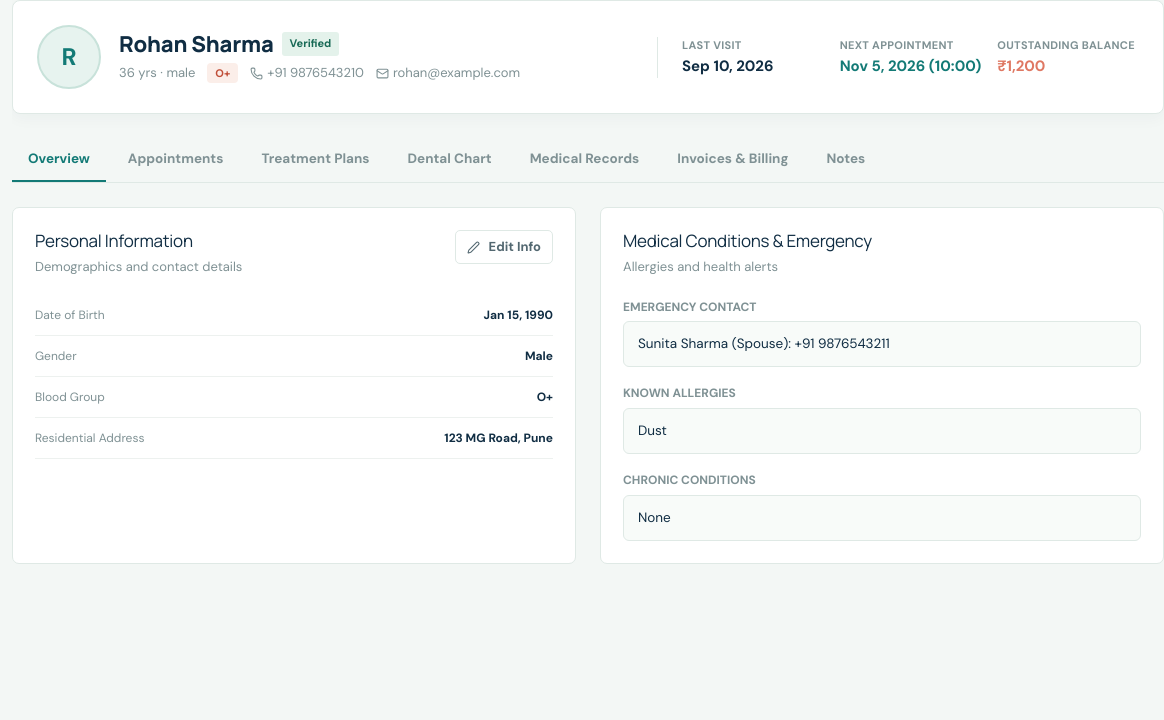
Test case: Patient360 Light Theme and Functionality › switches between all 7 tabs and renders appropriate section content
Check: the heading "Rohan Sharma" is shown, box [119, 30, 274, 57]
Check: the heading "Personal Information" is shown, box [35, 229, 193, 252]
# Appointments tab
Click the button "Appointments".
click(176, 160)  # box [112, 138, 239, 182]
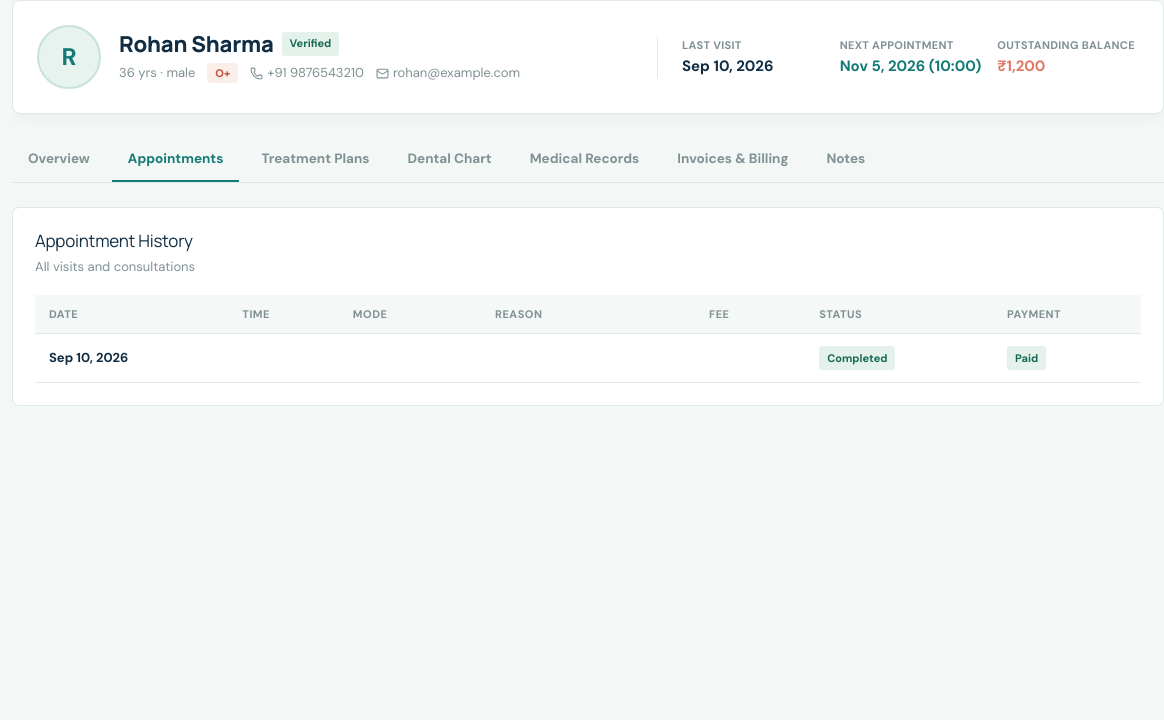
Check: the text "Routine scaling" is shown, box [481, 334, 695, 383]
# Treatment Plans tab
Click the button "Treatment Plans".
click(315, 160)  # box [245, 138, 386, 182]
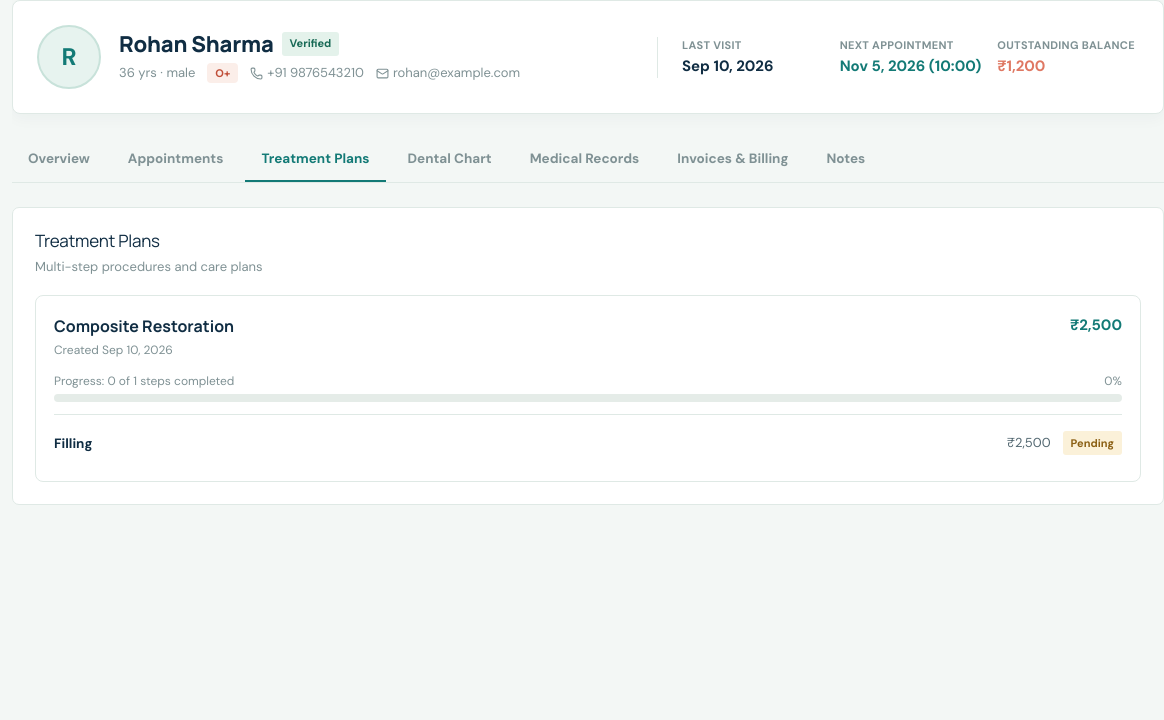
Check: the heading "Composite Restoration" is shown, box [54, 314, 234, 338]
# Dental Chart tab
Click the button "Dental Chart".
click(450, 160)  # box [392, 138, 508, 182]
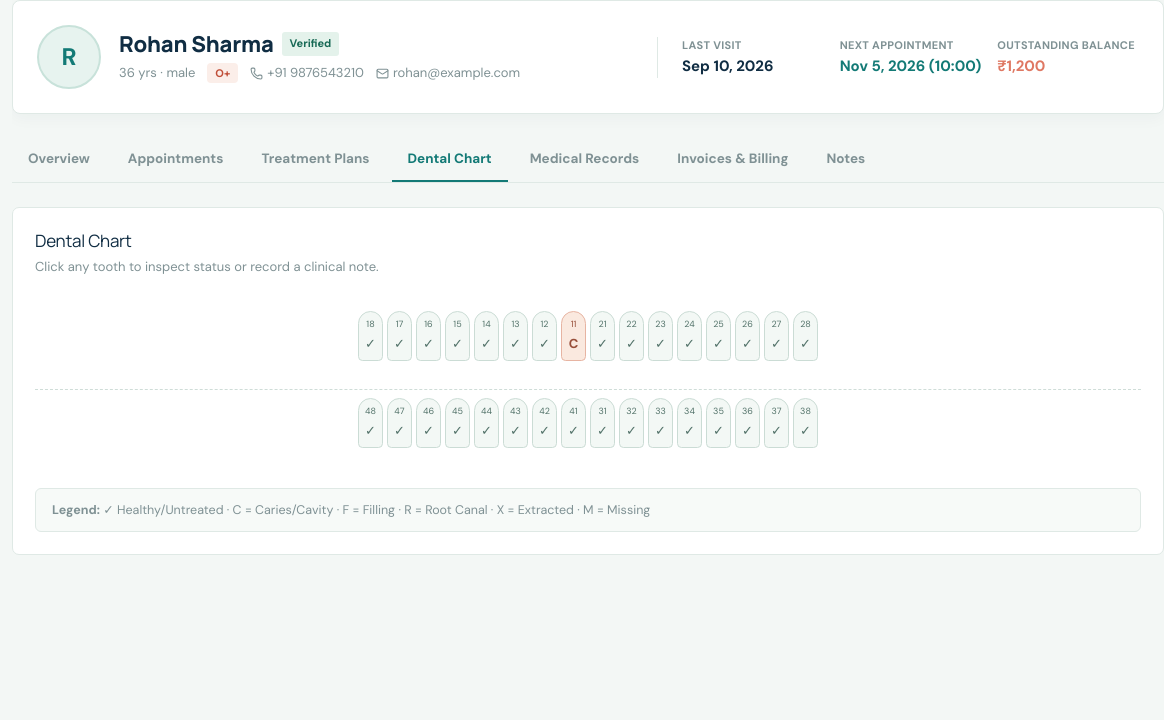
Check: the button titled "Tooth 11: caries" is shown, box [561, 311, 586, 361]
# Medical Records tab
Click the button "Medical Records".
click(584, 160)  # box [514, 138, 655, 182]
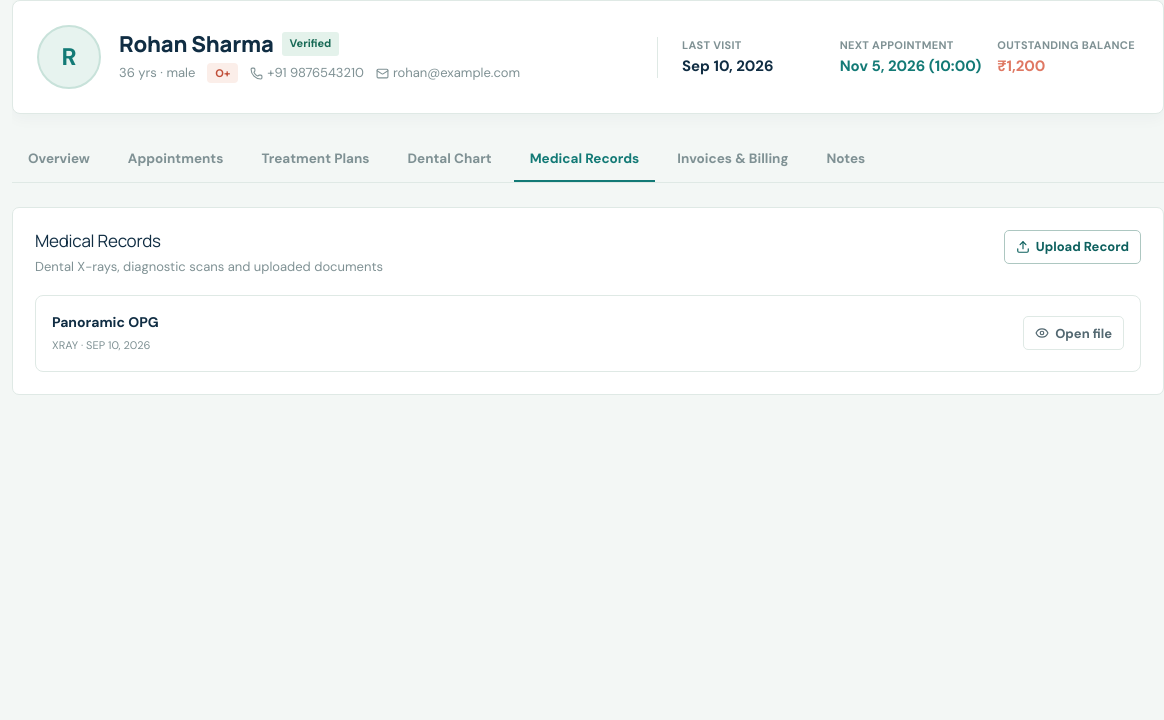
Check: the text "Panoramic OPG" is shown, box [52, 312, 159, 333]
# Invoices & Billing tab
Click the button "Invoices & Billing".
click(733, 160)  # box [661, 138, 804, 182]
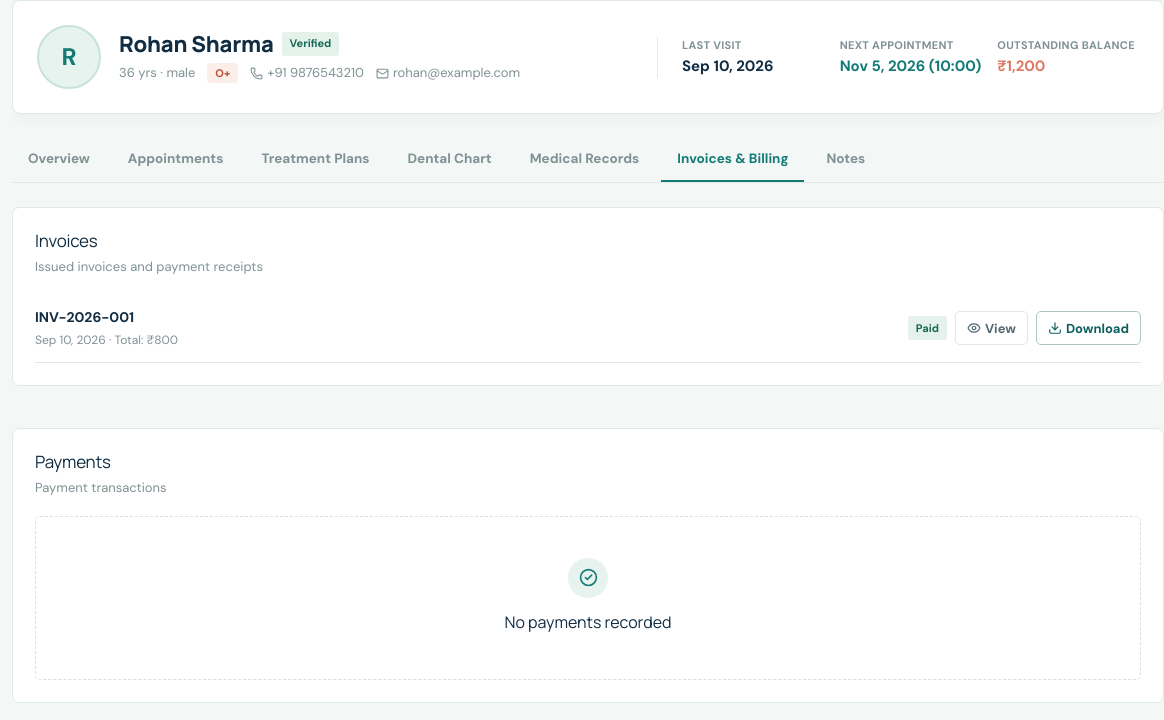
Check: the text "INV-2026-001" is shown, box [35, 308, 134, 326]
# Notes tab
Click the button "Notes".
click(846, 160)  # box [810, 138, 881, 182]
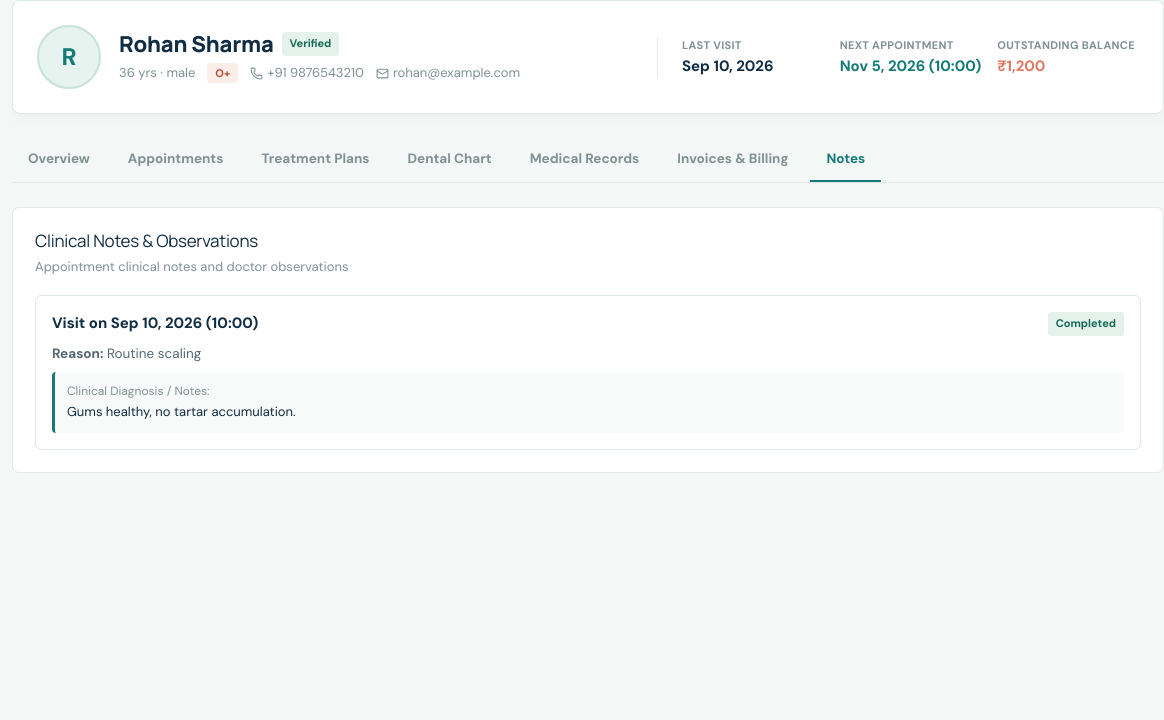
Check: the text "Gums healthy, no tartar accumulation." is shown, box [67, 403, 296, 420]
